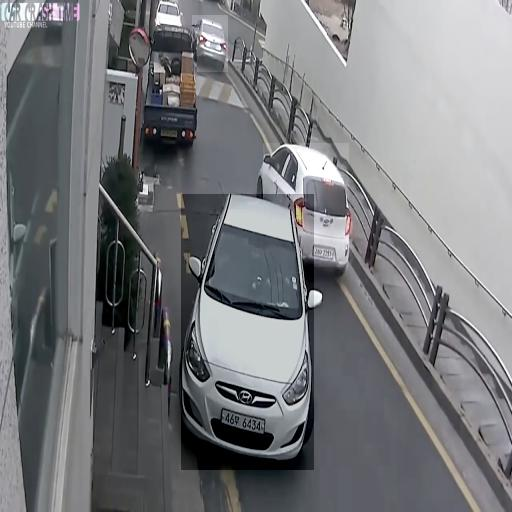小汽车: (181, 194, 314, 470), (263, 143, 349, 267), (143, 26, 197, 156), (192, 15, 228, 72)
